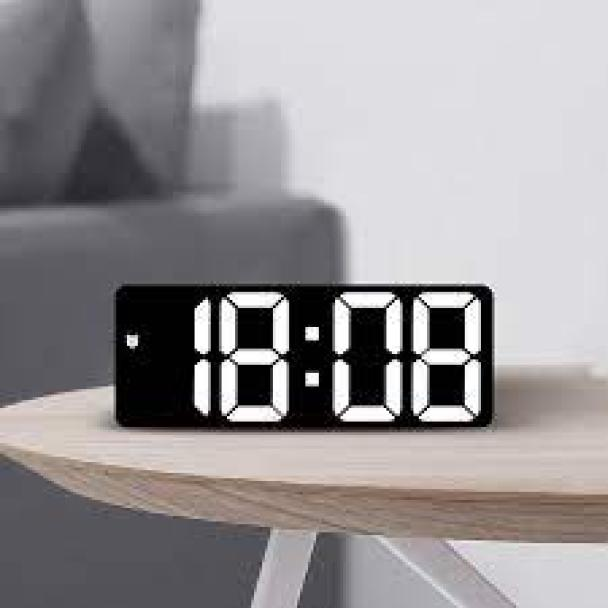Jam: (114, 280, 491, 431)
